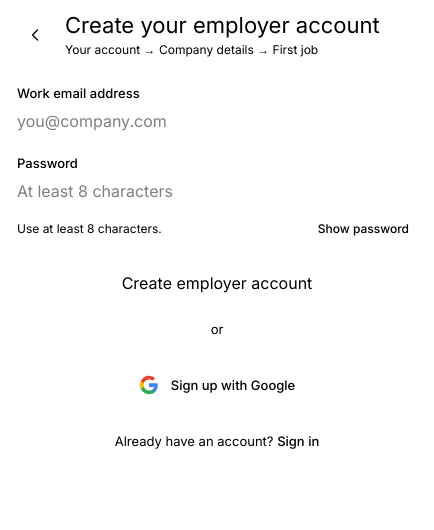
Scenario: employer account signup › recovers when Google sign-in cannot connect
The width and height of the screenshot is (434, 530).
Type "owner@example.com" into the field labelled "Work email address" at (134, 121), box [17,109,251,133]
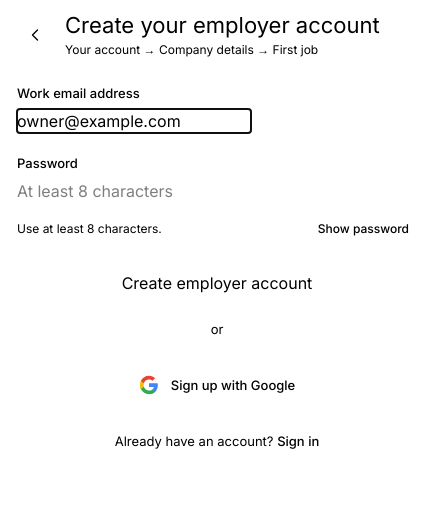
Type "secure-password" into the password field labelled "Password" at (134, 191), box [17,179,251,203]
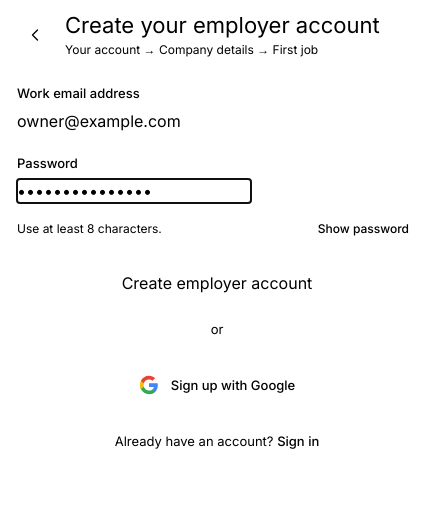
Click the button "Sign up with Google" at (217, 385), box [17,363,417,407]
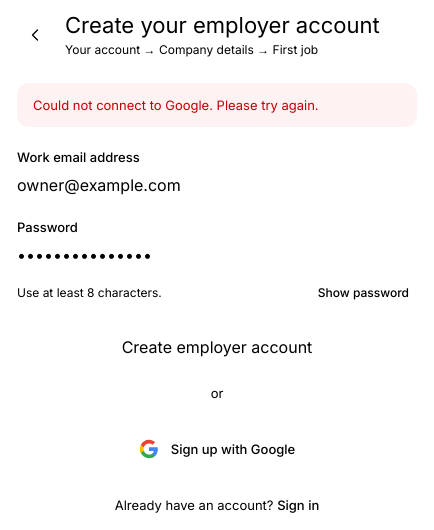
Check: the button "Sign up with Google" is enabled, box [17,427,417,471]
Check: the message "Could not connect to Google. Please try again." is shown, box [17,83,417,127]
